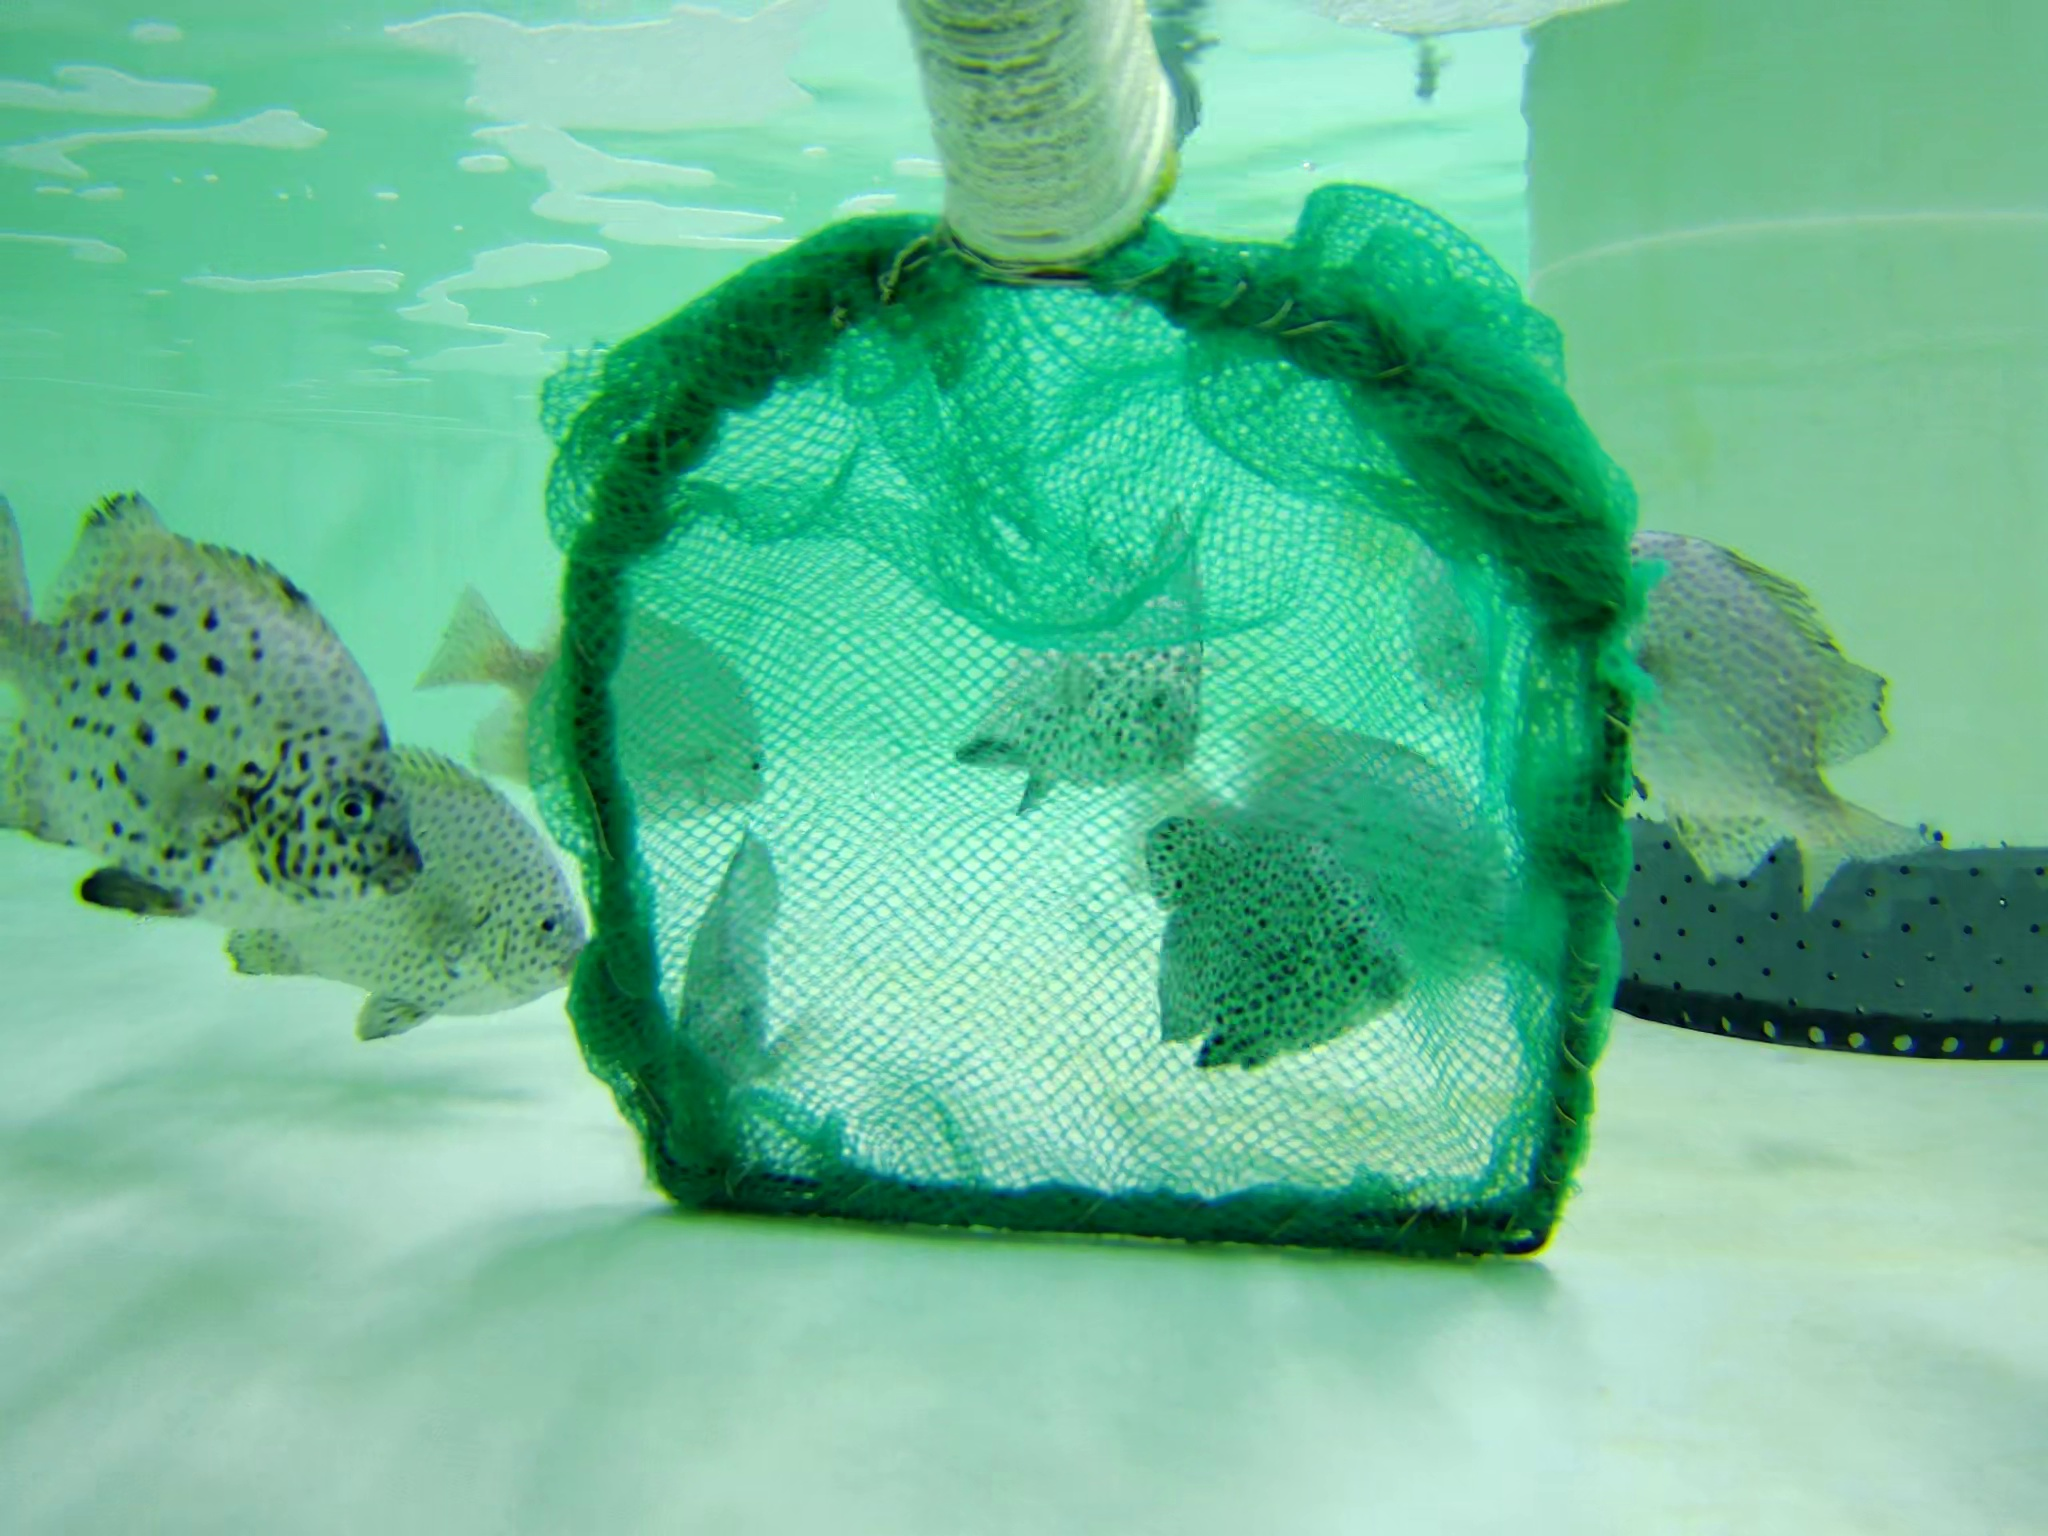fish: (2, 502, 427, 915), (1553, 507, 1932, 928), (182, 736, 585, 1026), (1243, 689, 1526, 997), (427, 581, 761, 829), (1142, 810, 1419, 1063), (974, 524, 1203, 797), (666, 821, 830, 1128), (1390, 503, 1524, 723)
